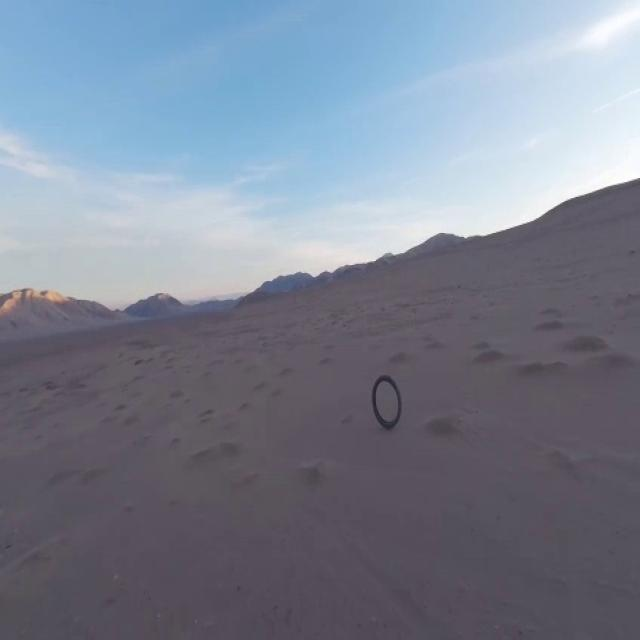Tire: (372, 375, 402, 428)
